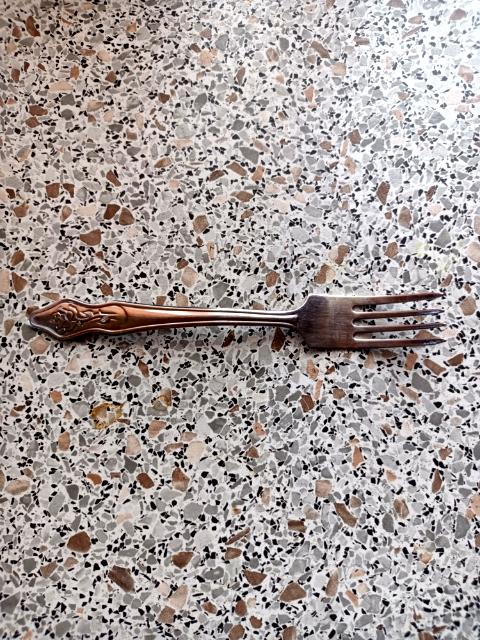Fork: (29, 293, 444, 349)
